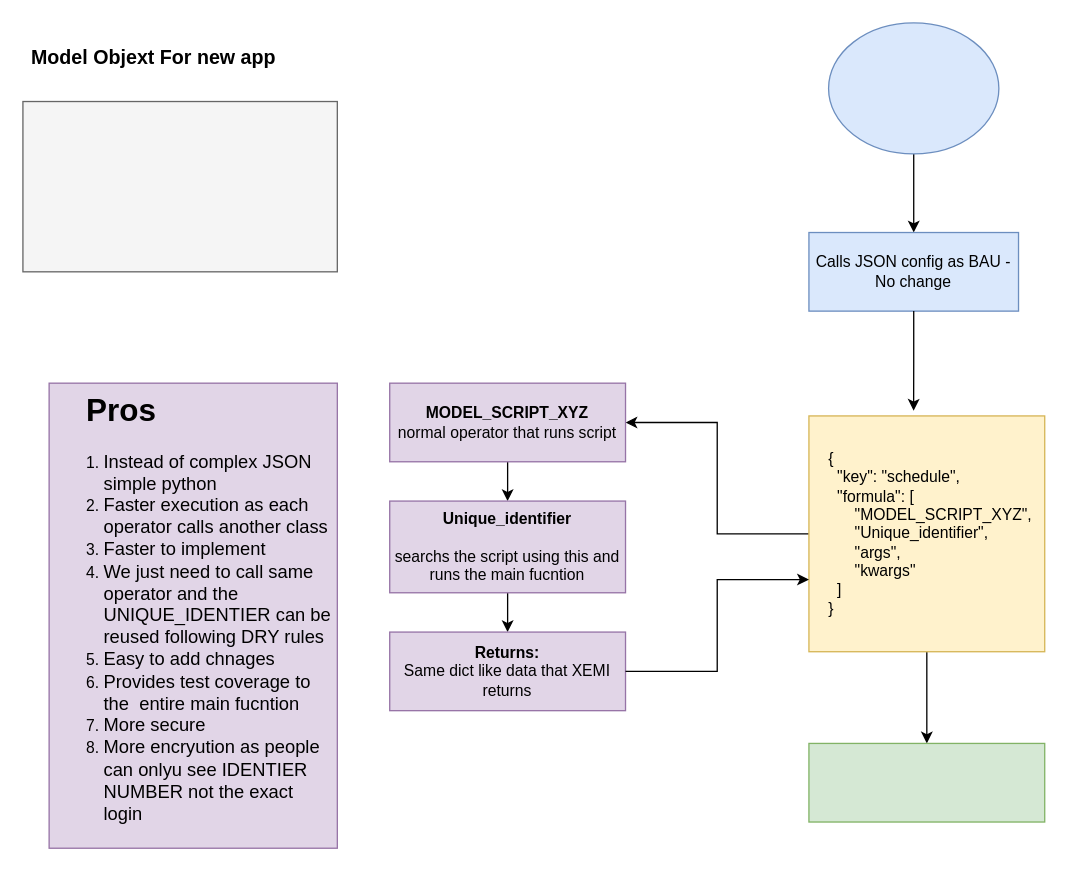
The diagram is 1068 pixels wide and 875 high, and some of its shapes have lost their labels. The box of each missing label's shape, as (x1, y1, x2, y2) in pixels:
Loan Terms triggers the same way: (827, 22, 999, 154)
Output to be used same like JSON, no code change: (808, 742, 1045, 822)
Script code with main fucntion. Test cases Coverage Unique Identifier Type: (22, 100, 337, 272)
